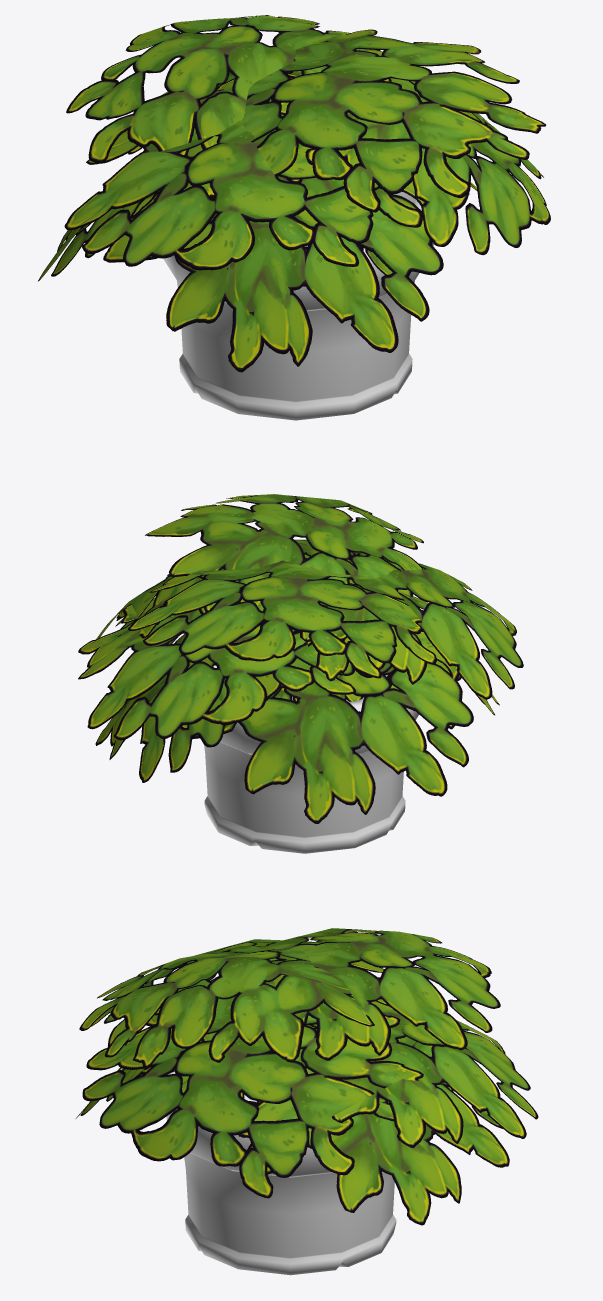
The model's file is PlantSmall_04.fbx.
3 renders of one model, top to bottom at view 1: azimuth 30°, elevation 25°; view 2: azimuth 150°, elevation 25°; view 3: azimuth 270°, elevation 25°, orthographic. The views are drawn at different scales.
Parts seen in each view (by area): view 1: Plane.086, Cylinder.208; view 2: Plane.086, Cylinder.208; view 3: Plane.086, Cylinder.208.
Boxes of the visible parts, x1,y1,x2,y2 form: Plane.086: (38,15,550,372); Cylinder.208: (163,191,433,420); Plane.086: (78,494,523,823); Cylinder.208: (204,665,418,853); Plane.086: (76,928,538,1225); Cylinder.208: (166,1071,396,1275).
Bounding box in the file's own units: 451 × 267 × 490.
